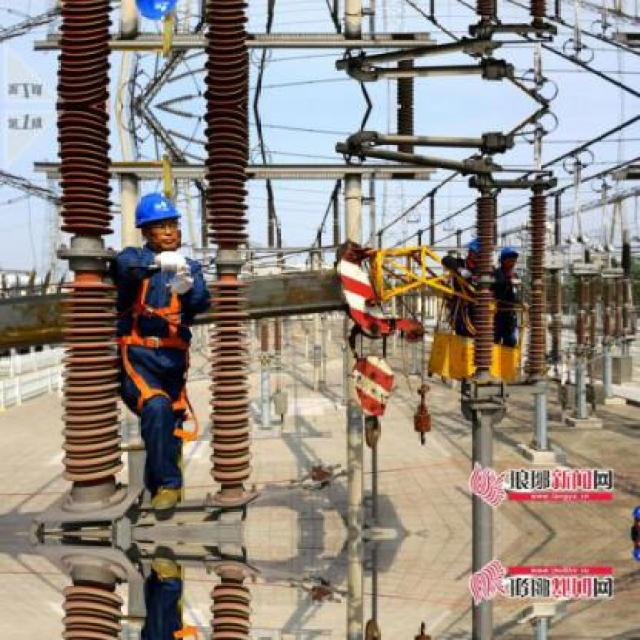helmet: (132, 186, 182, 254), (131, 0, 183, 28), (466, 234, 488, 270), (498, 244, 520, 273)
